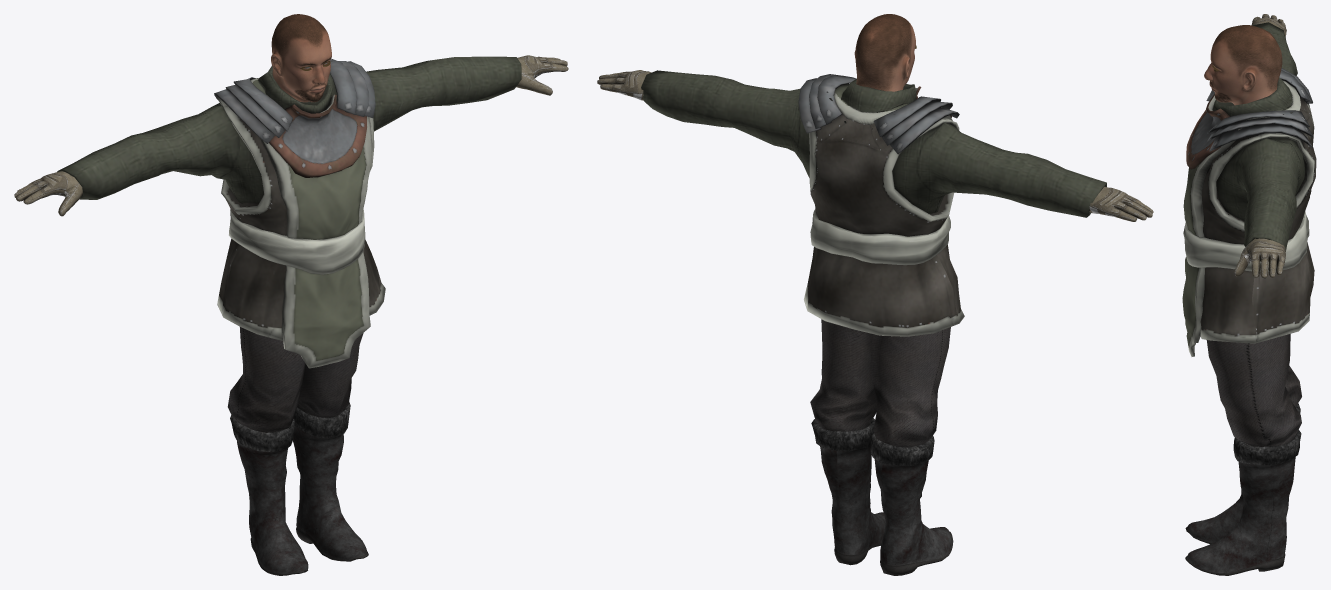
The model's file is strazj1.obj.
The picture shows the model from 3 angles, left to right: view 1: azimuth 30°, elevation 25°; view 2: azimuth 150°, elevation 25°; view 3: azimuth 270°, elevation 25°; orthographic projection. The views are drawn at different scales.
Parts seen in each view (by area): view 1: Tops, Shoes, Bottoms, Body, Gloves; view 2: Tops, Shoes, Bottoms, Body, Gloves; view 3: Tops, Shoes, Bottoms, Body, Gloves.
Part boxes in pixels (x1,y1,x2,y2): Tops: (57,56,521,368); Shoes: (230,402,368,575); Bottoms: (227,327,363,432); Body: (271,14,331,102); Gloves: (14,55,568,216); Tops: (641,70,1106,336); Shoes: (811,418,953,575); Bottoms: (810,319,950,447); Body: (854,14,915,91); Gloves: (597,70,1153,221); Tops: (1182,22,1316,356); Shoes: (1185,403,1301,575); Bottoms: (1206,334,1301,446); Body: (1204,25,1282,105); Gloves: (1234,14,1286,278).
Bounding box in the file's own units: 194 × 180 × 41.58.
5 materials, 5 textured.
